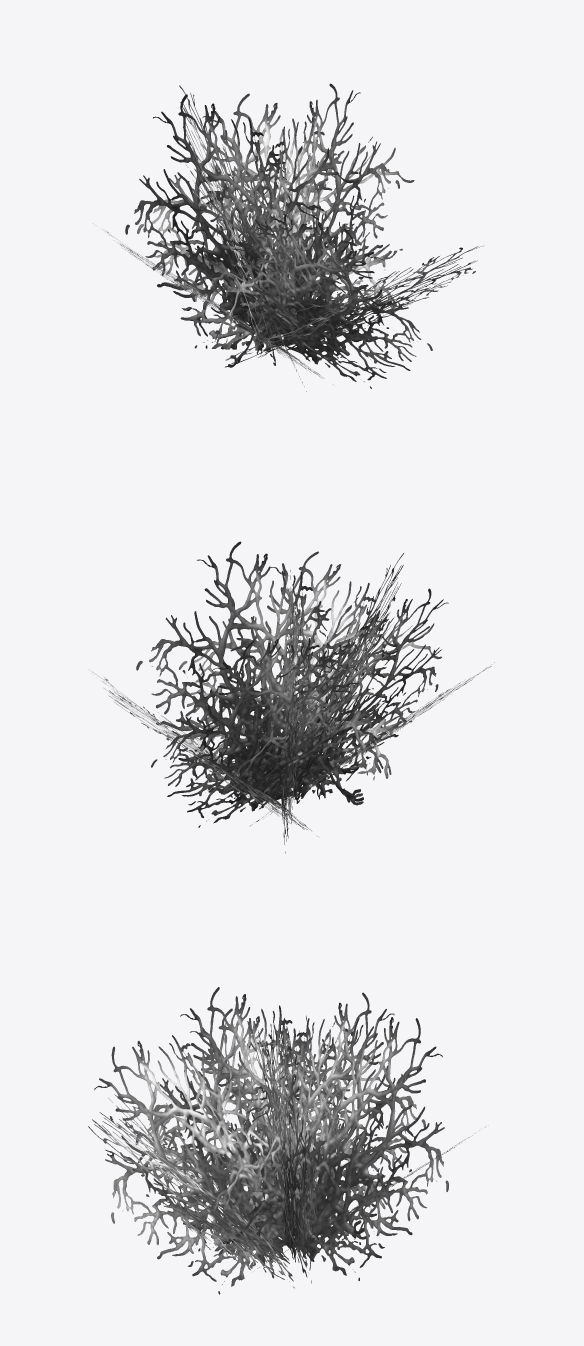
The model's file is winter bush3.FBX.
3 views of the same model, one above another, from view 1: azimuth 30°, elevation 25°; view 2: azimuth 150°, elevation 25°; view 3: azimuth 270°, elevation 25° (orthographic). The views are drawn at different scales.
Parts seen in each view (by area): view 1: winter bush3; view 2: winter bush3; view 3: winter bush3.
Part boxes in pixels (<box>): winter bush3: <box>105,83,482,391</box>; winter bush3: <box>93,541,494,853</box>; winter bush3: <box>88,987,474,1294</box>.
Size of the model in its own units: 22.52 by 17.56 by 27.15.
